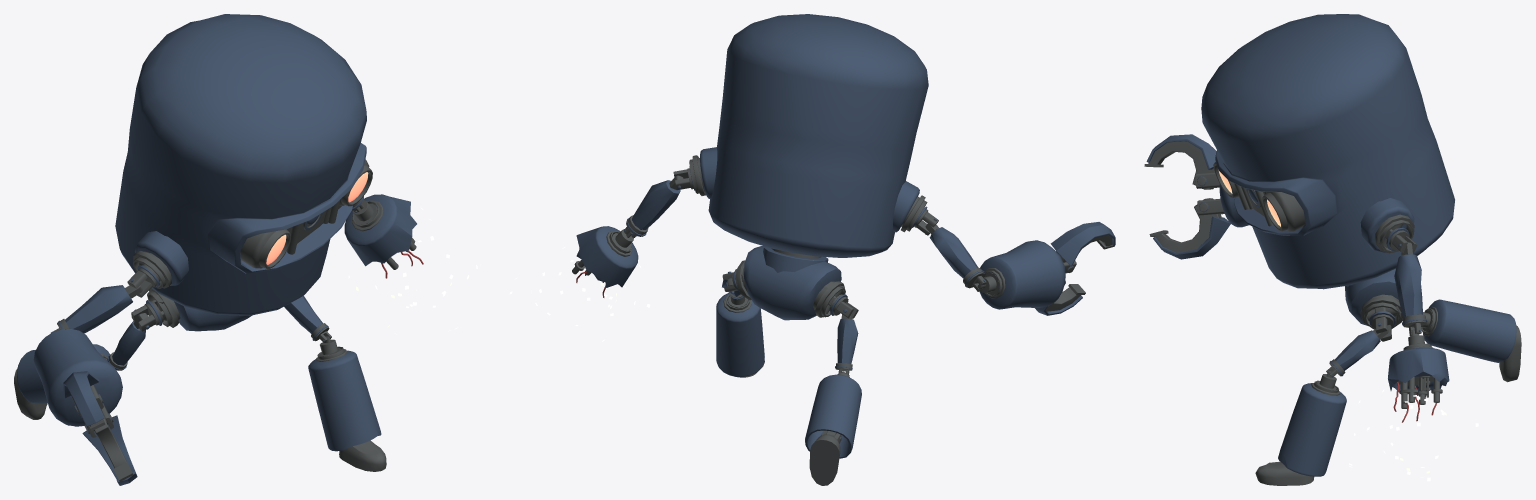
Rendered from robo_1.glb.
3 renders of one model, left to right at view 1: azimuth 30°, elevation 25°; view 2: azimuth 150°, elevation 25°; view 3: azimuth 270°, elevation 25°, orthographic. The views are drawn at different scales.
Parts seen in each view (by area): view 1: polySurface320; view 2: polySurface320; view 3: polySurface320.
Part boxes in pixels (x1,y1,x2,y2): polySurface320: (14,14,480,485); polySurface320: (509,14,1115,485); polySurface320: (1144,14,1521,485).
Bounding box in the file's own units: 0.3141 × 0.239 × 0.2024.
